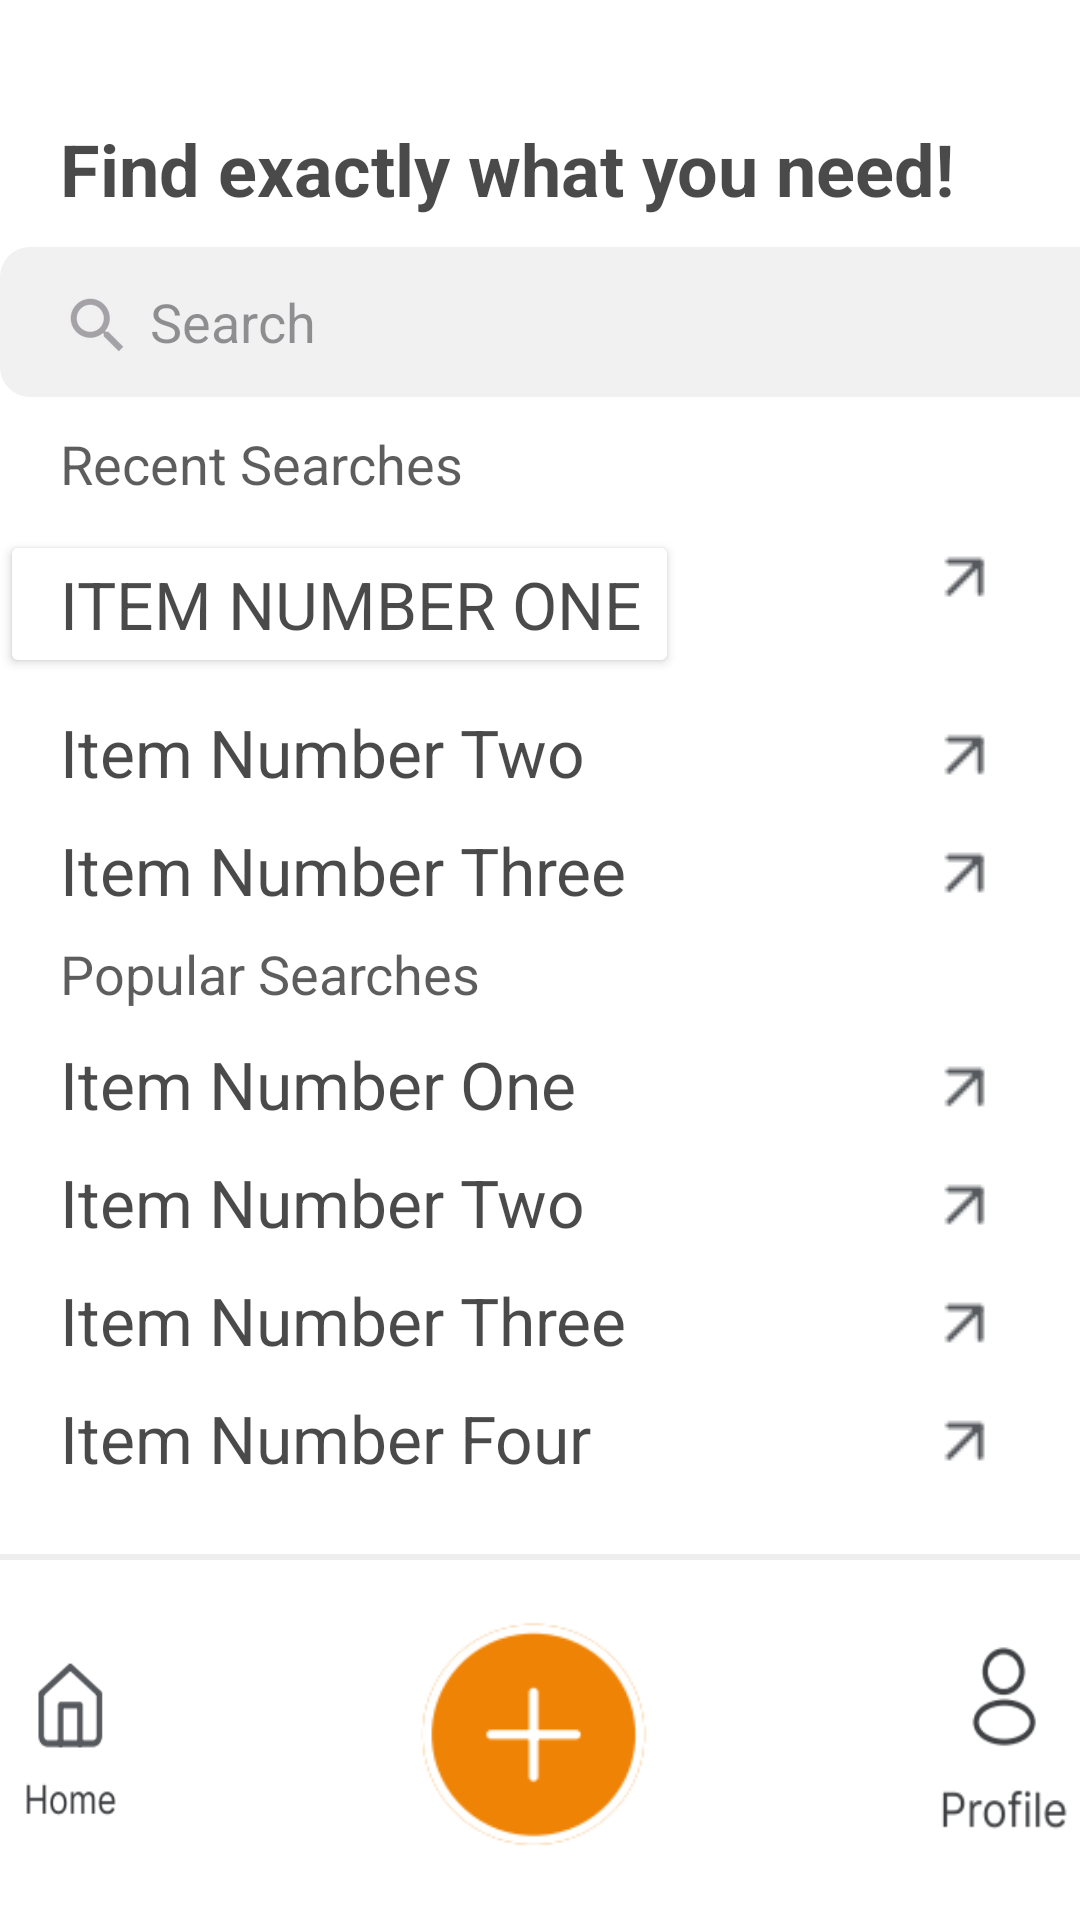

Icons on this 1080×1920 Android screen, each with the point to tap as (x=x, y=y):
arrow: (x=964, y=576), (x=964, y=754), (x=964, y=872), (x=964, y=1086), (x=964, y=1204), (x=964, y=1322), (x=964, y=1440)
